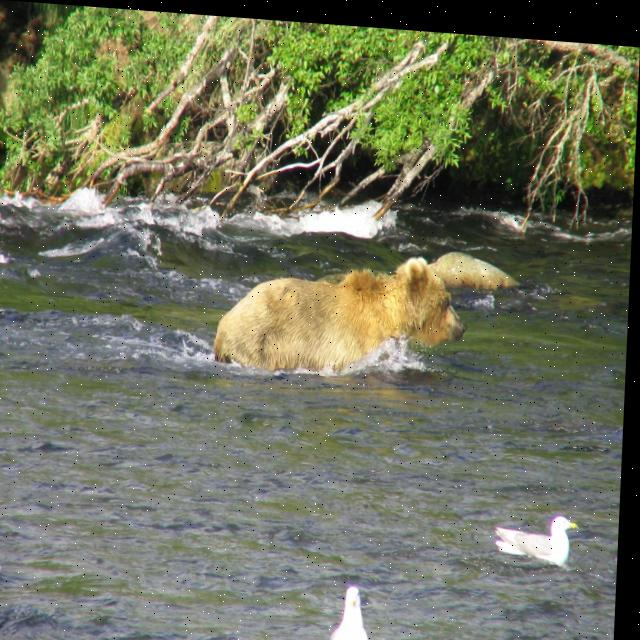bear face: (213, 238, 471, 380)
